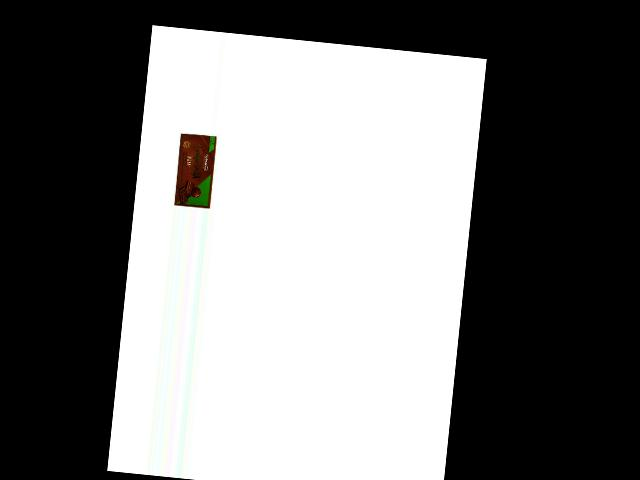chocolate: (170, 129, 218, 210)
